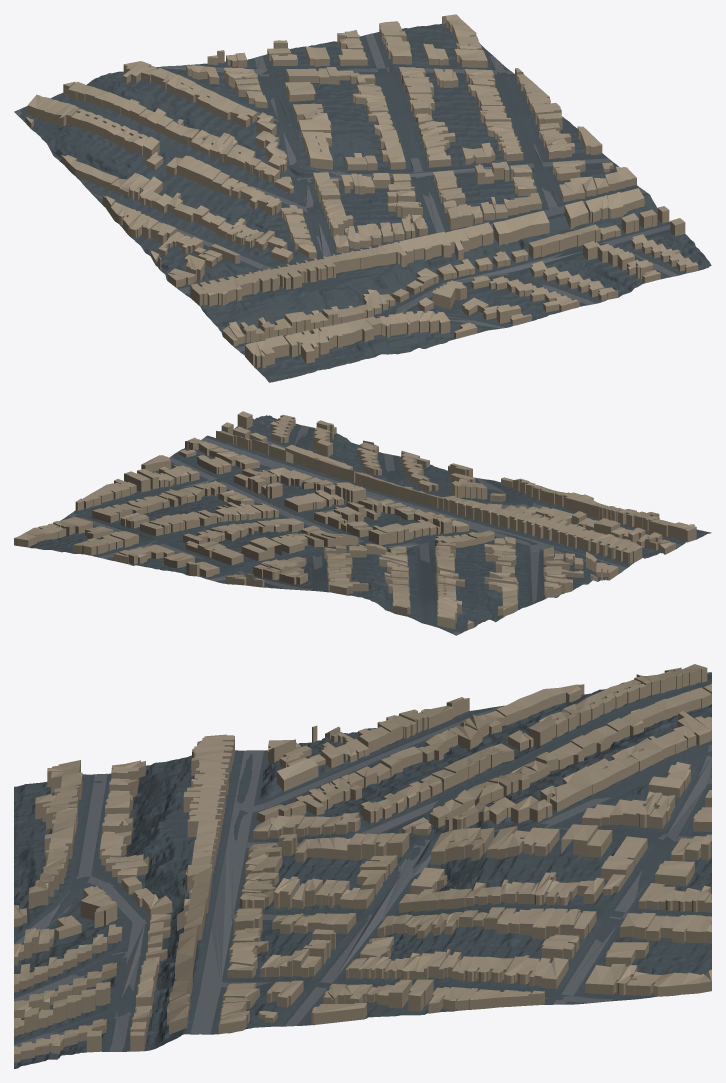
Rendered from epsg26910-1434-10874.lod0.glb.
The picture shows the model from 3 angles, top to bottom: view 1: azimuth 30°, elevation 25°; view 2: azimuth 150°, elevation 25°; view 3: azimuth 270°, elevation 25°; orthographic projection. The views are drawn at different scales.
Parts seen in each view (by area): view 1: epsg26910-1434-10874-lod0; view 2: epsg26910-1434-10874-lod0; view 3: epsg26910-1434-10874-lod0.
Part boxes in pixels (box(x1,y1,x2,y2)): epsg26910-1434-10874-lod0: box(14, 14, 711, 382); epsg26910-1434-10874-lod0: box(14, 411, 711, 635); epsg26910-1434-10874-lod0: box(14, 664, 711, 1068).
Size of the model in its own units: 384 by 90.33 by 384.
